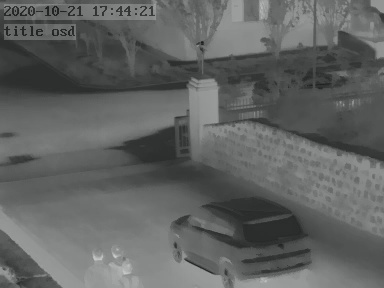person: (109, 245, 140, 286), (83, 246, 112, 288)
vehicle: (165, 198, 309, 285)
